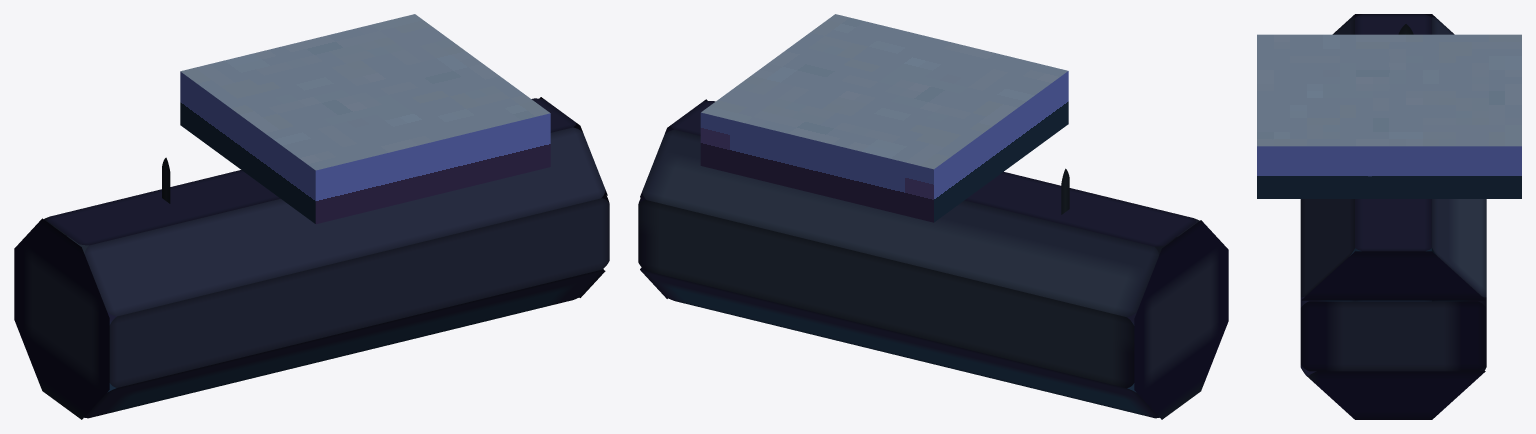
The model's file is m1_water_tank.obj.
3 renders of one model, left to right at view 1: azimuth 30°, elevation 25°; view 2: azimuth 150°, elevation 25°; view 3: azimuth 270°, elevation 25°, orthographic. The views are drawn at different scales.
Parts seen in each view (by area): view 1: cube; view 2: cube; view 3: cube.
Boxes of the visible parts, x1,y1,x2,y2 form: cube: (14, 14, 609, 419); cube: (638, 14, 1228, 419); cube: (1257, 14, 1521, 419).
Bounding box in the file's own units: 2.13 × 0.9817 × 1.
